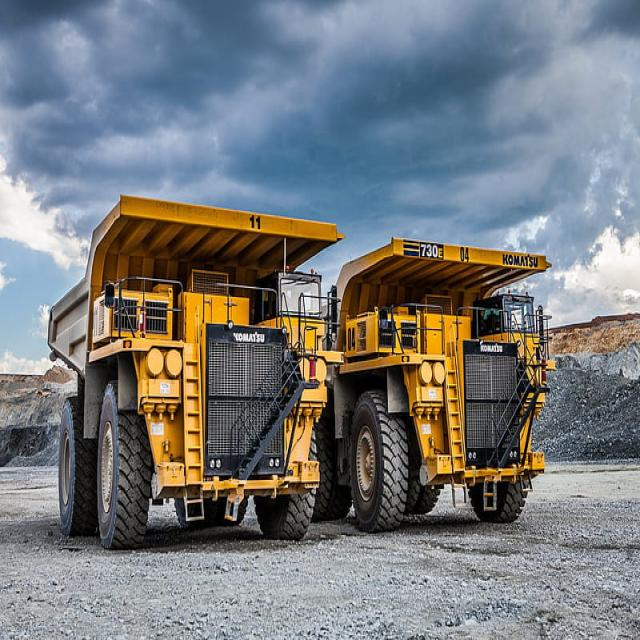dump_truck: (45, 197, 319, 536), (341, 235, 551, 514)
